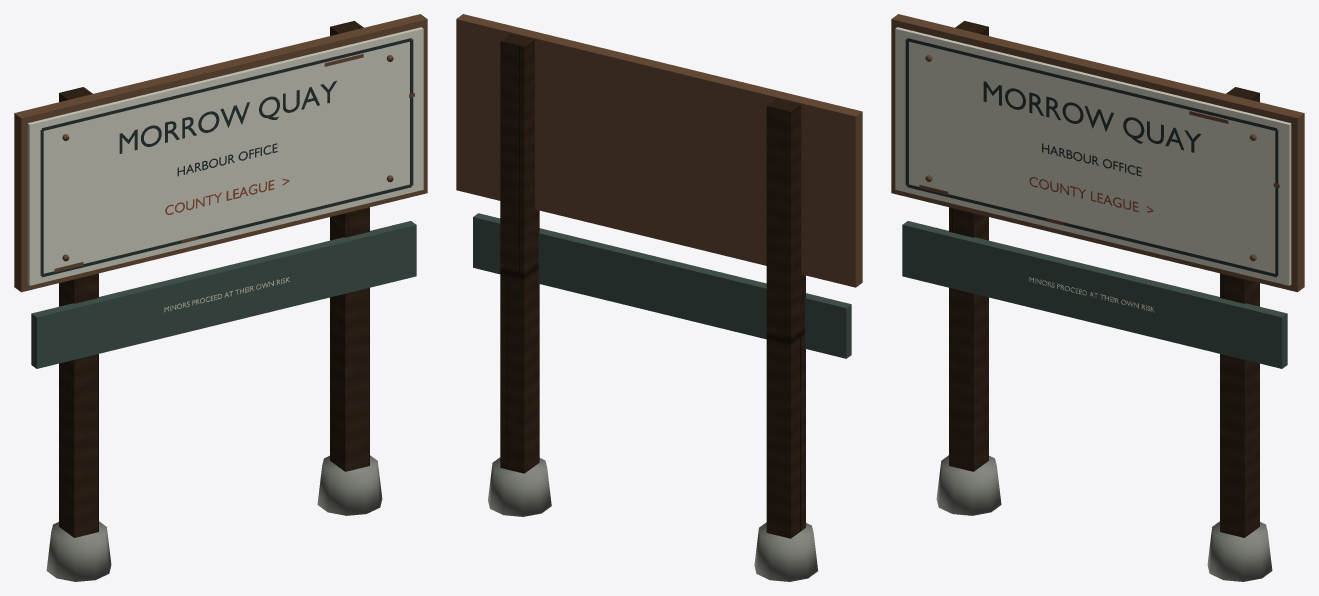
The model's file is waymarker-morrow-quay.glb.
3 views of the same model, side by side, from view 1: azimuth 30°, elevation 25°; view 2: azimuth 150°, elevation 25°; view 3: azimuth 330°, elevation 25° (orthographic).
Parts seen in each view (by area): view 1: Reflective enamel face, Lower regulation plaque, Steel folded sign back, Weathered timber upright, Weathered timber upright.001, Concrete footing.001, Concrete footing, Destination, Printed border.001, Printed border, Printed border.002, Direction (+1 smaller); view 2: Steel folded sign back, Lower regulation plaque, Weathered timber upright, Weathered timber upright.001, Concrete footing.001, Concrete footing; view 3: Reflective enamel face, Lower regulation plaque, Steel folded sign back, Weathered timber upright.001, Weathered timber upright, Concrete footing, Concrete footing.001, Destination, Printed border.001, Printed border, Printed border.002, Printed border.003 (+1 smaller).
Boxes of the visible parts, x1,y1,x2,y2 form: Reflective enamel face: [27, 27, 423, 285]; Lower regulation plaque: [31, 221, 416, 368]; Steel folded sign back: [14, 14, 427, 292]; Weathered timber upright: [59, 87, 98, 537]; Weathered timber upright.001: [330, 21, 369, 471]; Concrete footing.001: [317, 455, 382, 515]; Concrete footing: [46, 521, 111, 581]; Destination: [119, 81, 336, 153]; Printed border.001: [42, 38, 411, 131]; Printed border: [42, 184, 411, 277]; Printed border.002: [40, 129, 43, 275]; Direction: [165, 179, 289, 214]; Steel folded sign back: [456, 14, 862, 287]; Lower regulation plaque: [473, 213, 851, 358]; Weathered timber upright: [766, 98, 805, 538]; Weathered timber upright.001: [500, 33, 539, 473]; Concrete footing.001: [488, 457, 551, 516]; Concrete footing: [754, 522, 817, 581]; Reflective enamel face: [895, 27, 1291, 285]; Lower regulation plaque: [902, 221, 1287, 368]; Steel folded sign back: [891, 14, 1304, 292]; Weathered timber upright.001: [1220, 87, 1259, 537]; Weathered timber upright: [949, 21, 988, 471]; Concrete footing: [936, 455, 1001, 515]; Concrete footing.001: [1207, 521, 1272, 581]; Destination: [983, 81, 1200, 152]; Printed border.001: [907, 38, 1276, 131]; Printed border: [907, 184, 1276, 277]; Printed border.002: [905, 39, 908, 185]; Printed border.003: [1275, 129, 1278, 275].
Size of the model in its own units: 1.98 by 2.2 by 0.28.
Materials: 8 (1 with a texture image).
